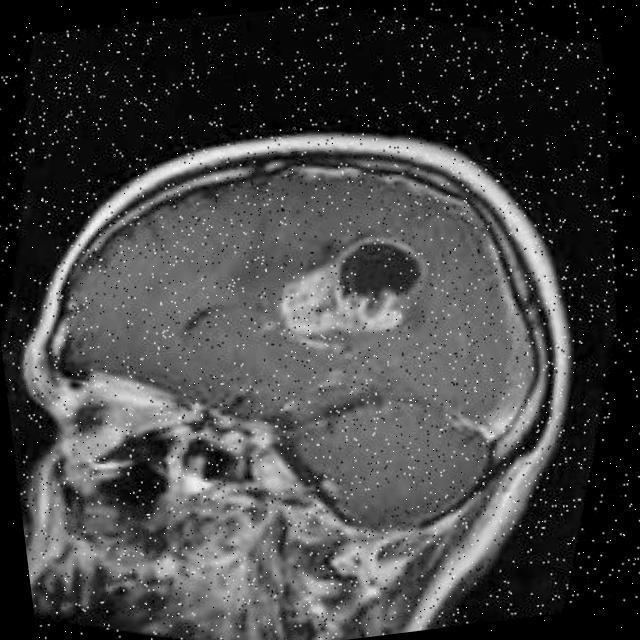MCI: (210, 184, 444, 410)
